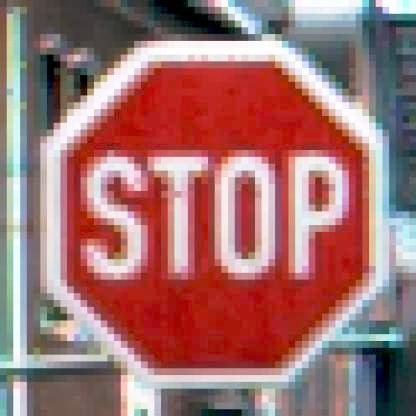Stop Sign: (39, 40, 390, 388)
